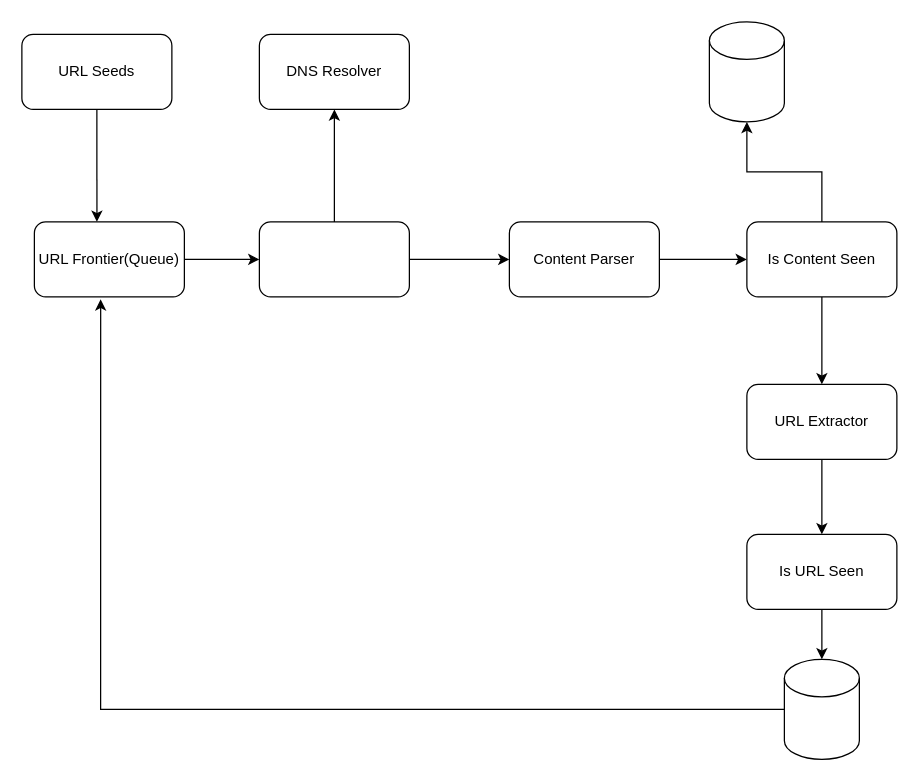
The diagram is 919 pixels wide and 781 high, and some of its shapes have lost their labels. Each missing label, with the centre of its shape:
"Contents" belongs at (746,71).
"HTML Downloader" belongs at (333,259).
"URLs" belongs at (821,708).
